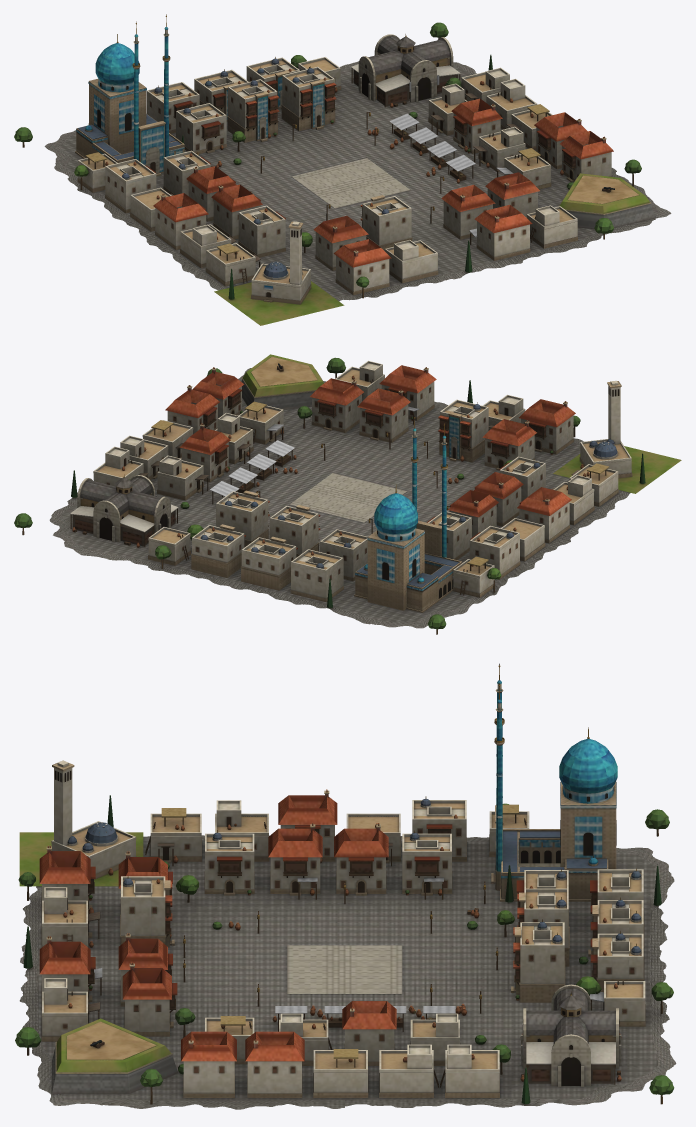
File: gunpowder-town-big-a-levant.glb
The picture shows the model from 3 angles, top to bottom: view 1: azimuth 30°, elevation 25°; view 2: azimuth 150°, elevation 25°; view 3: azimuth 270°, elevation 25°; orthographic projection. The views are drawn at different scales.
Parts seen in each view (by area): view 1: LOD0; view 2: LOD0; view 3: LOD0.
Part boxes in pixels (box(x1,y1,x2,y2)): LOD0: box(14, 14, 671, 325); LOD0: box(14, 354, 681, 634); LOD0: box(15, 663, 676, 1109).
Size of what is drawn, in the model's own units: 8.05 by 2.8 by 8.12.
3 materials, 3 textured.
